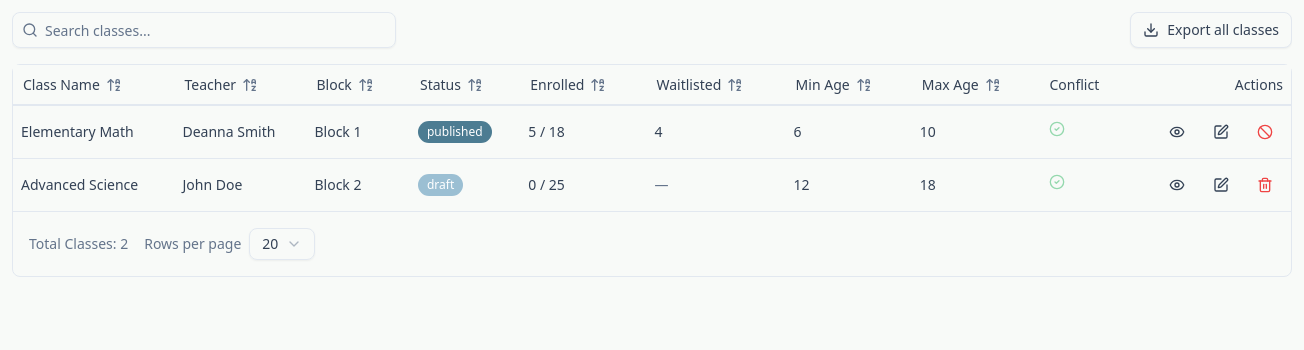
AdminClassTable › rows per page › offers the supported page sizes
This screenshot has width=1304, height=350.
Click the dropdown named "rows per page" at (282, 244), box [249,228,315,260]
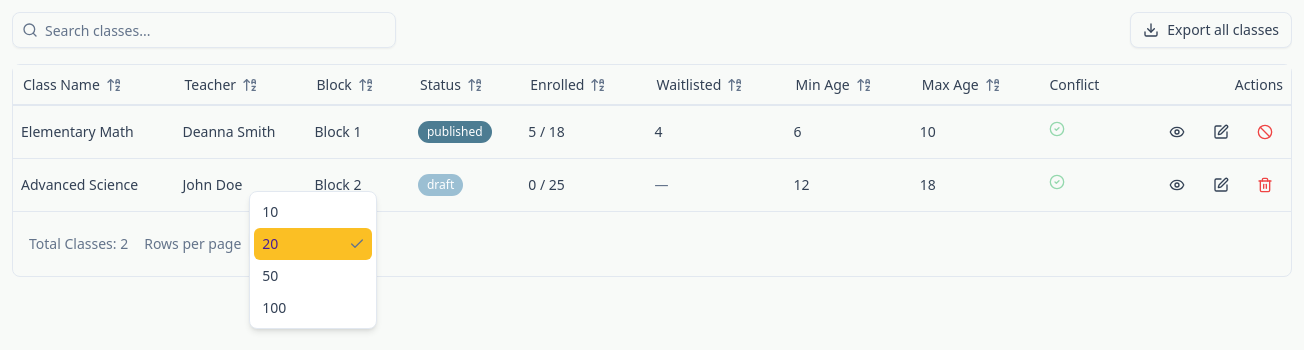
expect the options read "10", "20", "50", "100", in this order: met, box [262,202,278,220]; [254,228,372,260]; [262,266,278,284]; [262,298,286,316]
